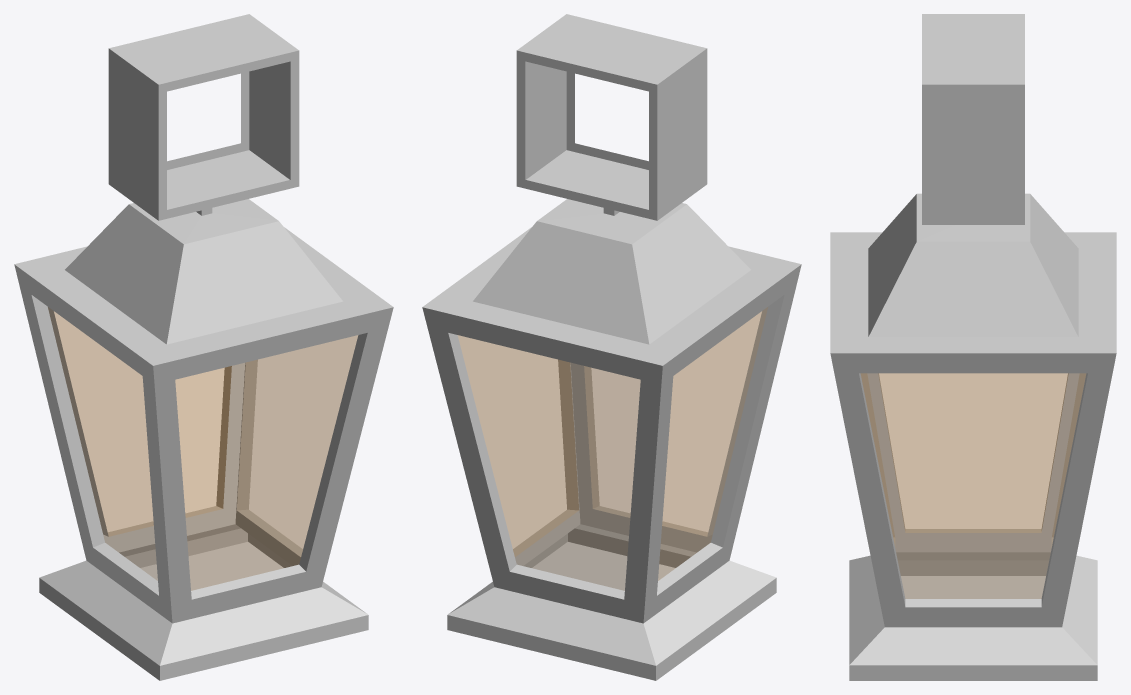
The model's file is Lampu_DiTiang.fbx.
3 renders of one model, left to right at view 1: azimuth 30°, elevation 25°; view 2: azimuth 150°, elevation 25°; view 3: azimuth 270°, elevation 25°, orthographic. The views are drawn at different scales.
Visible parts, largest first — view 1: Lampu_DiTiang; view 2: Lampu_DiTiang; view 3: Lampu_DiTiang.
Part boxes in pixels (bbox=[...]): Lampu_DiTiang: bbox=[14, 14, 393, 680]; Lampu_DiTiang: bbox=[422, 14, 801, 680]; Lampu_DiTiang: bbox=[830, 14, 1116, 680].
Bounding box in the file's own units: 37.73 × 84.21 × 37.73.
